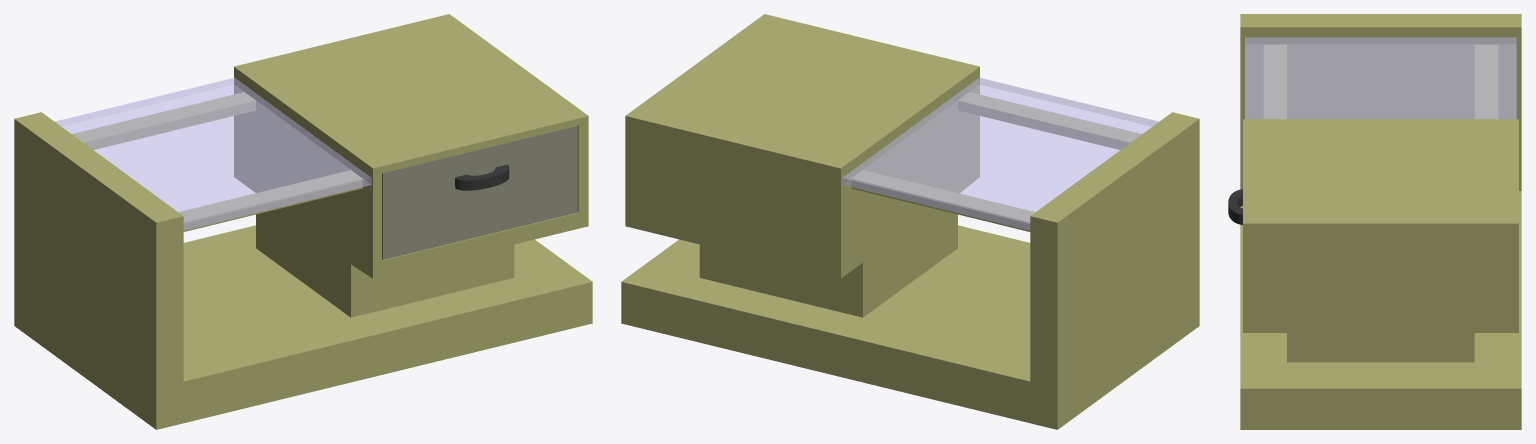
The model's file is table2.fbx.
3 views of the same model, side by side, from view 1: azimuth 30°, elevation 25°; view 2: azimuth 150°, elevation 25°; view 3: azimuth 270°, elevation 25° (orthographic).
Parts seen in each view (by area): view 1: Table2; view 2: Table2; view 3: Table2.
Boxes of the visible parts, x1=… form: Table2: x1=14, y1=14, x2=592, y2=429; Table2: x1=621, y1=14, x2=1199, y2=429; Table2: x1=1228, y1=14, x2=1521, y2=429.
Bounding box in the file's own units: 171 × 77.7 × 101.
